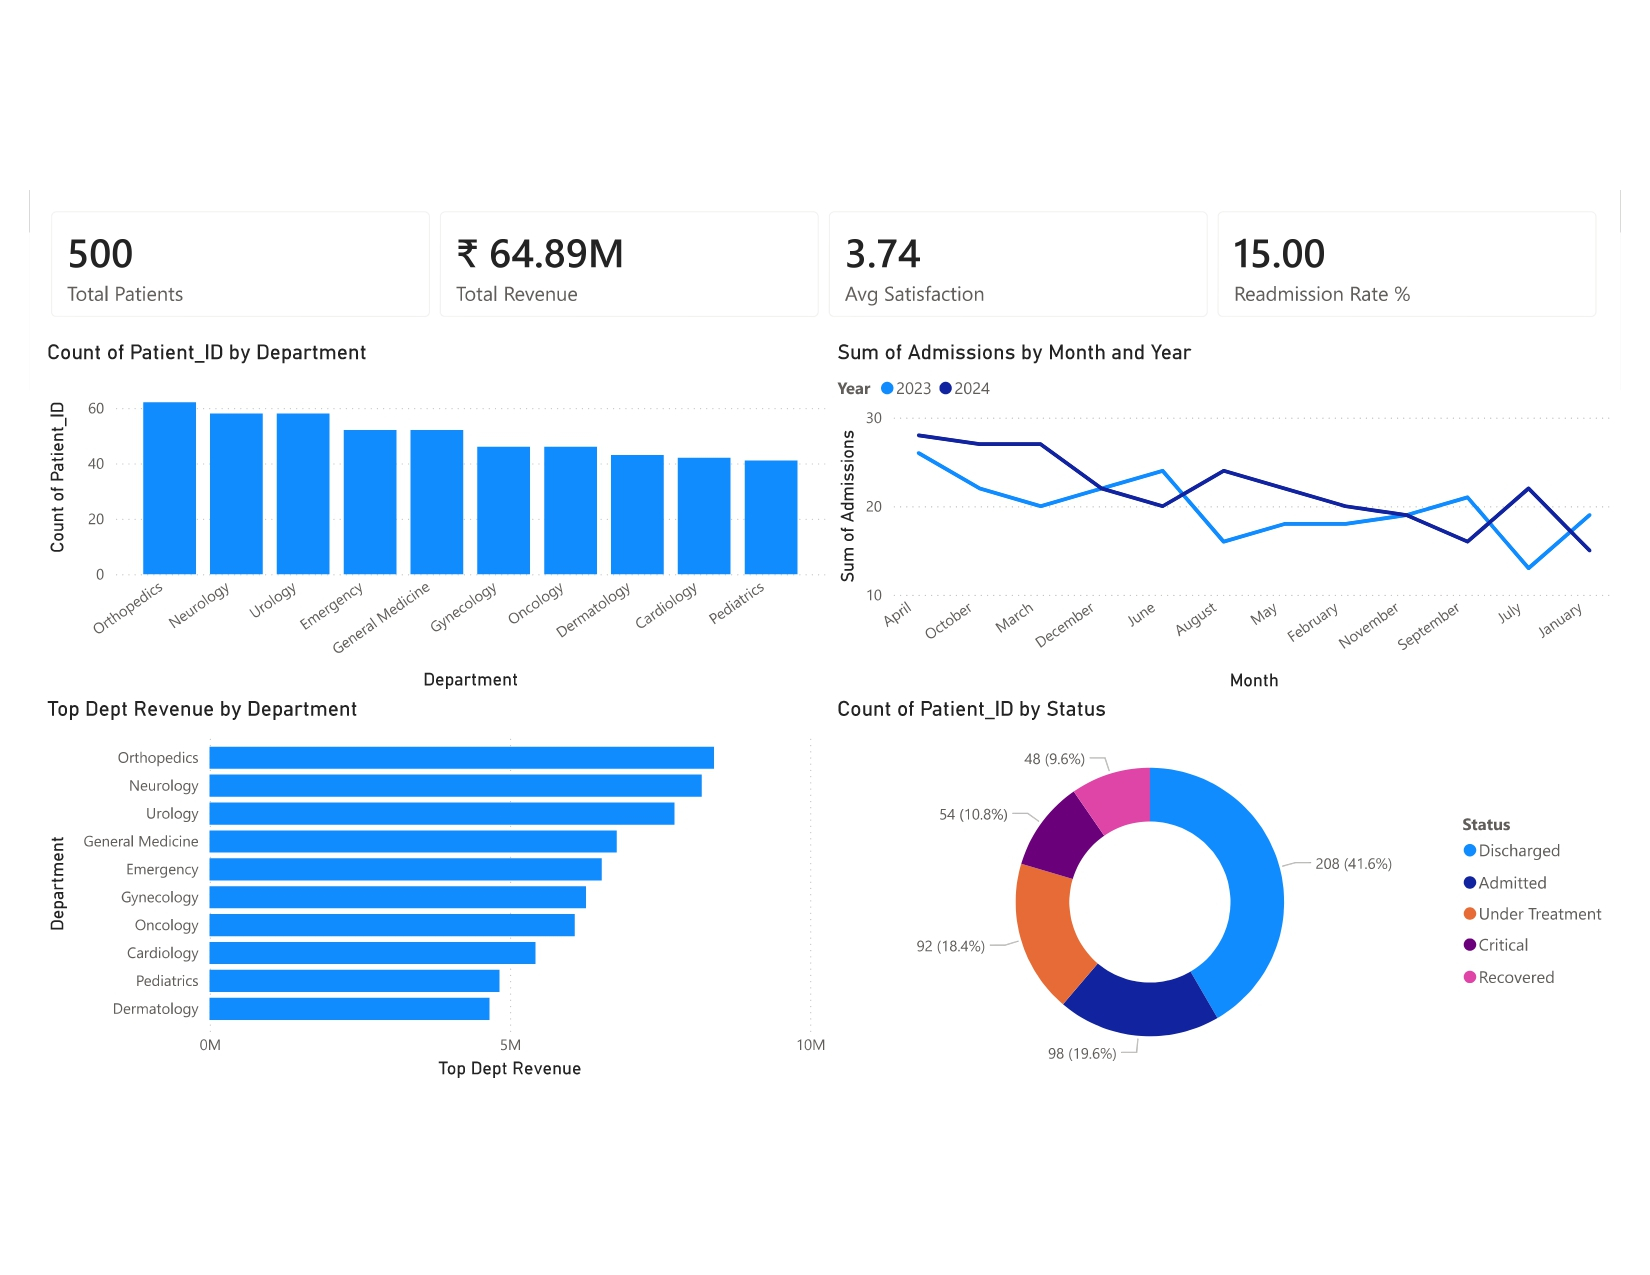

This screenshot's page, from the dashboard's own definition file:
{"tool":"powerbi","page":{"name":"Page 1","canvas":[1280,720],"ordinal":0},"visuals":[{"type":"cardVisual","fields":{"Data":["Age_Analysis.Total Patients","Age_Analysis.Total Revenue","Age_Analysis.Avg Satisfaction","Age_Analysis.Readmission Rate %"]},"box":[0,0,1280.3,119.8],"z":0},{"type":"clusteredColumnChart","fields":{"Category":["Patient_Data.Department"],"Y":["CountNonNull(Patient_Data.Patient_ID)"]},"box":[9.4,119.8,635.4,286.7],"z":1000},{"type":"clusteredBarChart","fields":{"Category":["Dept_Summary.Department"],"Y":["Age_Analysis.Top Dept Revenue"]},"box":[9.4,406.6,635.4,313.7],"z":2000},{"type":"lineChart","fields":{"Y":["Sum(Monthly_Trends.Admissions)"],"Category":["Monthly_Trends.Month"],"Series":["Monthly_Trends.Year"]},"box":[644.8,119.8,635.4,286.7],"z":3000},{"type":"donutChart","fields":{"Category":["Patient_Data.Status"],"Y":["CountNonNull(Patient_Data.Patient_ID)"]},"box":[644.8,406.6,635.4,313.7],"z":4000}]}

Visuals, with their boxes on the page's 1280x720 design canvas (x1, y1, x2, y2). These are canvas units, not pixel positions in the 1650x1275 screenshot, which may show the page scaled, cropped or inside an application window:
cardVisual - Age_Analysis.Total Patients x Age_Analysis.Total Revenue: l=0, t=0, r=1280, b=120
clusteredColumnChart - Patient_Data.Department x CountNonNull(Patient_Data.Patient_ID): l=9, t=120, r=645, b=406
clusteredBarChart - Dept_Summary.Department x Age_Analysis.Top Dept Revenue: l=9, t=407, r=645, b=720
lineChart - Sum(Monthly_Trends.Admissions) x Monthly_Trends.Month: l=645, t=120, r=1280, b=406
donutChart - Patient_Data.Status x CountNonNull(Patient_Data.Patient_ID): l=645, t=407, r=1280, b=720
